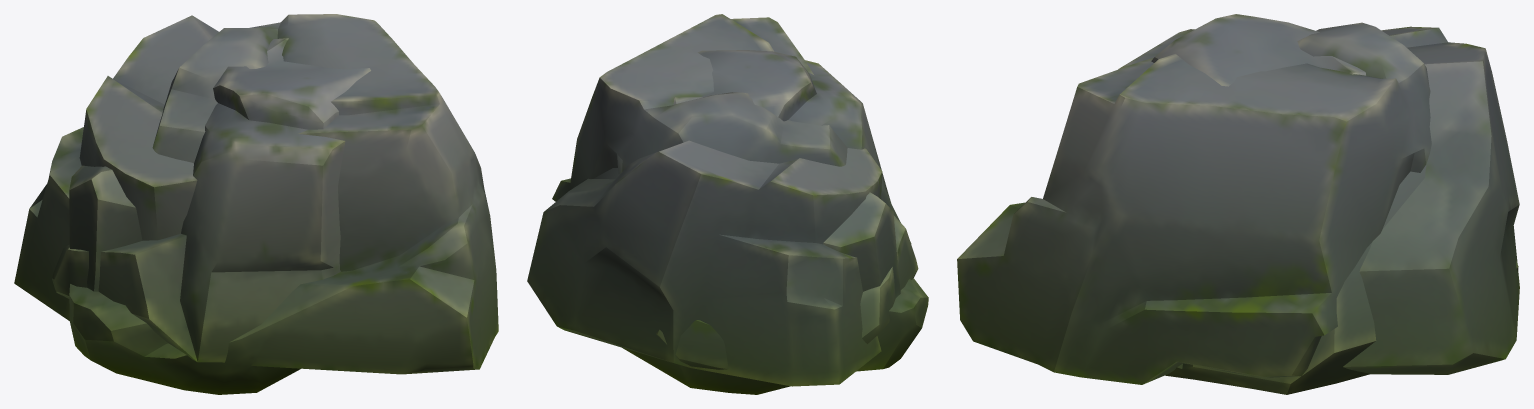
Rendered from rocks.glb.
3 renders of one model, left to right at view 1: azimuth 30°, elevation 25°; view 2: azimuth 150°, elevation 25°; view 3: azimuth 270°, elevation 25°, orthographic. The views are drawn at different scales.
Visible parts, largest first — view 1: Rock_Medium_3, Rock_Medium_1, Rock_Medium_2; view 2: Rock_Medium_2, Rock_Medium_3, Rock_Medium_1; view 3: Rock_Medium_3, Rock_Medium_2, Rock_Medium_1.
Part boxes in pixels (bbox=[...]): Rock_Medium_3: bbox=[69, 14, 498, 394]; Rock_Medium_1: bbox=[52, 38, 370, 362]; Rock_Medium_2: bbox=[14, 15, 218, 320]; Rock_Medium_2: bbox=[527, 140, 882, 386]; Rock_Medium_3: bbox=[552, 14, 928, 371]; Rock_Medium_1: bbox=[573, 50, 918, 394]; Rock_Medium_3: bbox=[957, 22, 1431, 384]; Rock_Medium_2: bbox=[1343, 26, 1519, 374]; Rock_Medium_1: bbox=[1118, 14, 1518, 394].
Bounding box in the file's own units: 3.42 × 2.32 × 3.74.
Materials: 1 (1 with a texture image).
